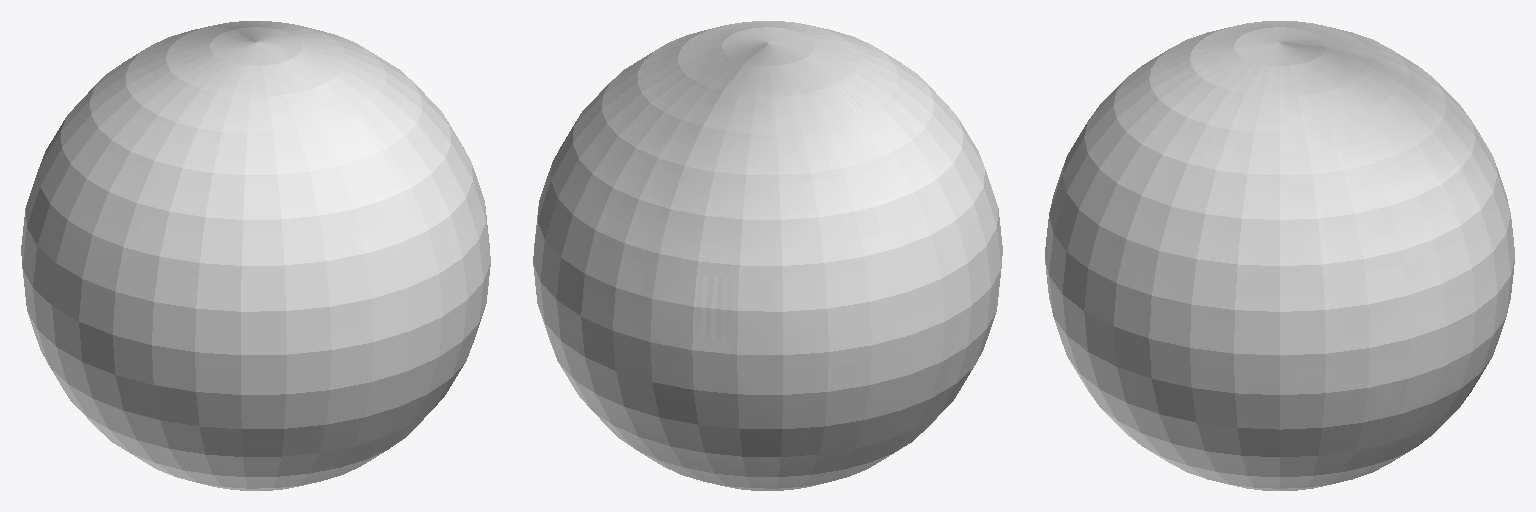
The picture shows the model from 3 angles: view 1: azimuth 30°, elevation 25°; view 2: azimuth 150°, elevation 25°; view 3: azimuth 270°, elevation 25°; orthographic projection.
Parts seen in each view (by area): view 1: Sphere001; view 2: Sphere001; view 3: Sphere001.
Part boxes in pixels (left/top/right/bottom): Sphere001: left=21, top=21, right=490, bottom=490; Sphere001: left=533, top=21, right=1002, bottom=490; Sphere001: left=1045, top=21, right=1514, bottom=490.
Bounding box in the file's own units: 1.15 × 1.15 × 1.15.
1 materials, 1 textured.